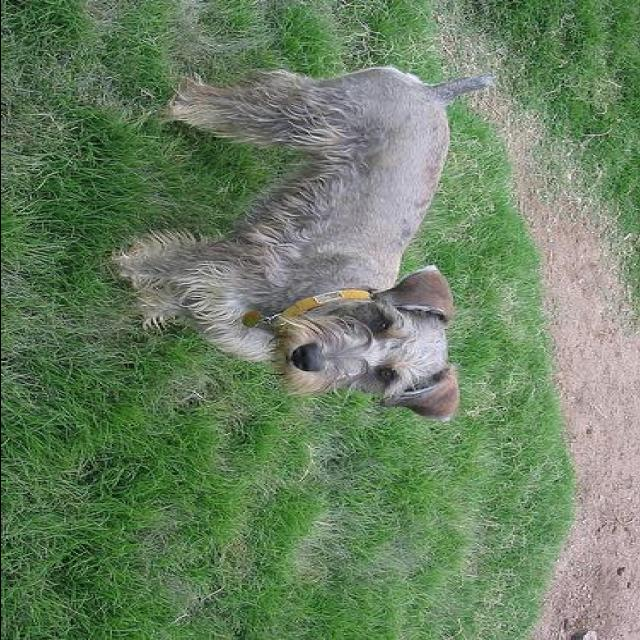standard_schnauzer: (111, 66, 493, 423)
